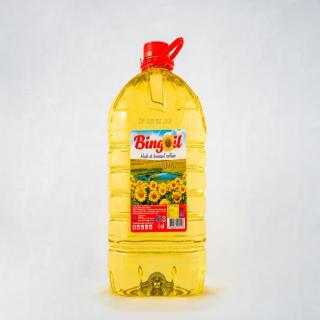Plastic-bottle: (104, 36, 212, 300)
